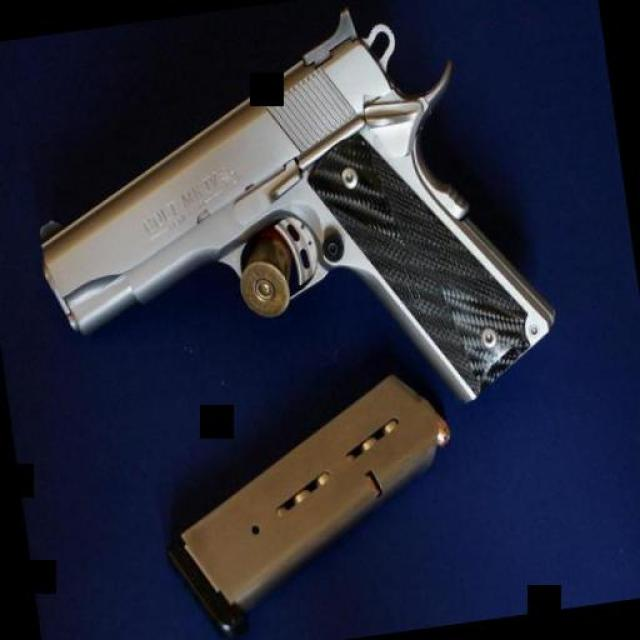gun: (0, 0, 575, 479)
